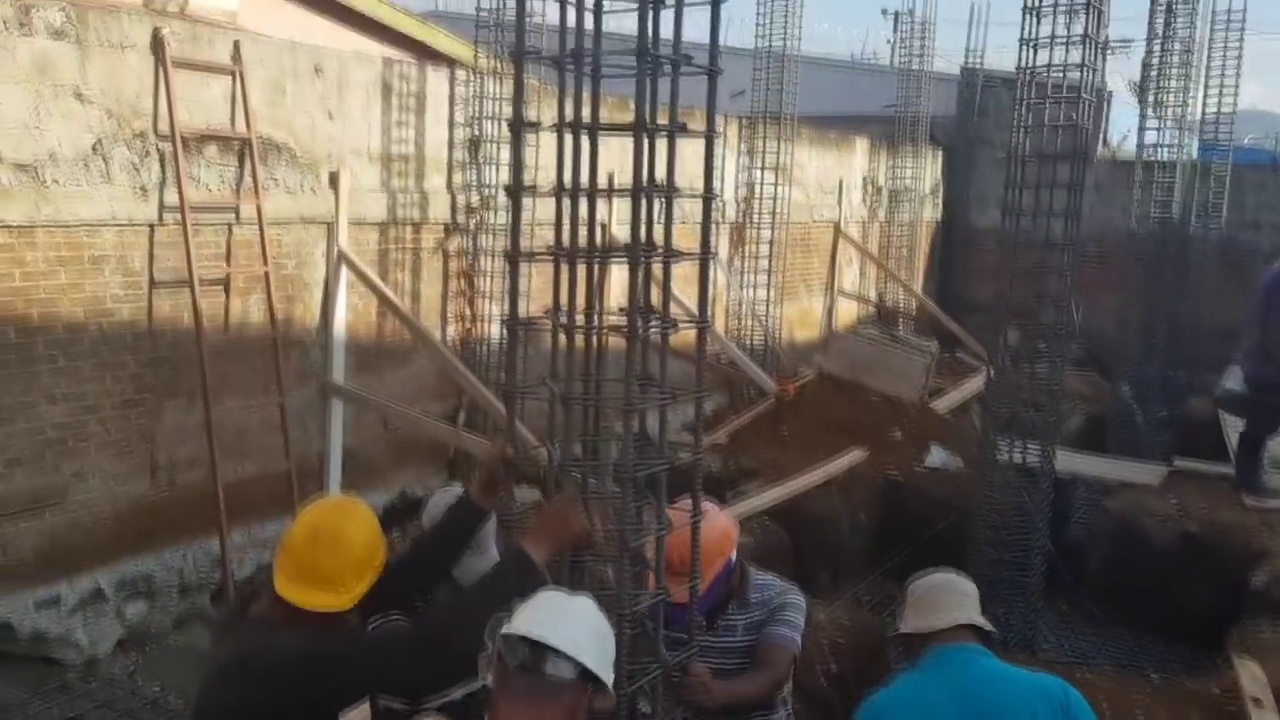helmet: (268, 501, 388, 617), (501, 594, 620, 688), (649, 504, 737, 597)
helmet-off: (888, 575, 1006, 675)
helmet-on: (246, 500, 393, 642), (484, 590, 622, 719), (650, 492, 752, 628)
person: (152, 462, 480, 718), (633, 465, 777, 720), (878, 576, 1083, 720), (1208, 256, 1273, 503)
